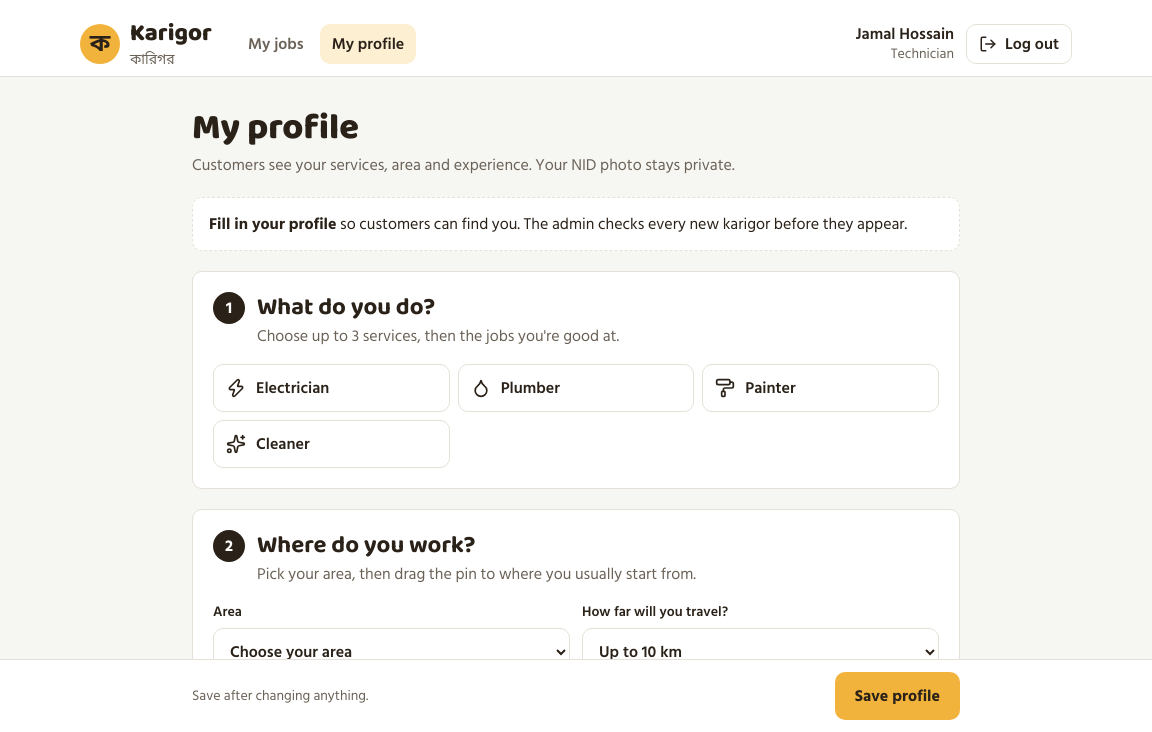
it: new technician › allows at most 3 services
Expected: the heading "What do you do?" is shown, top-left (257, 288), bottom-right (435, 328)
Click the button "Electrician": (331, 388) top-left (213, 364), bottom-right (450, 412)
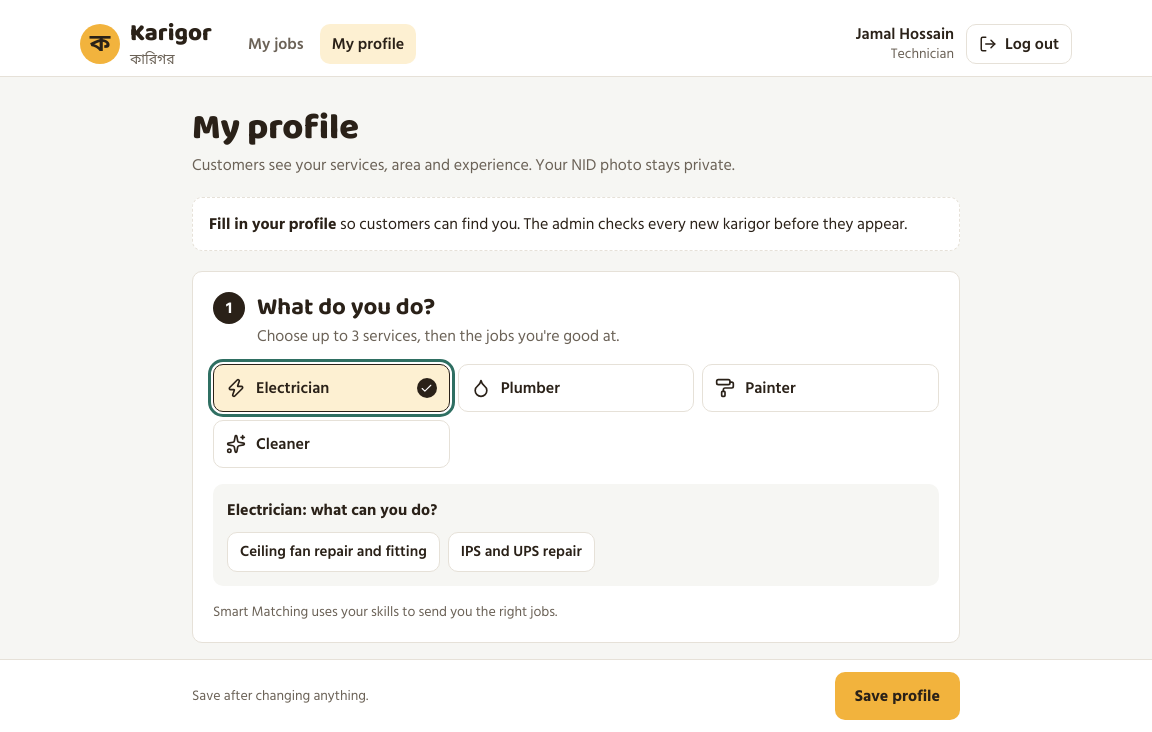
Click the button "Plumber": (576, 388) top-left (458, 364), bottom-right (694, 412)
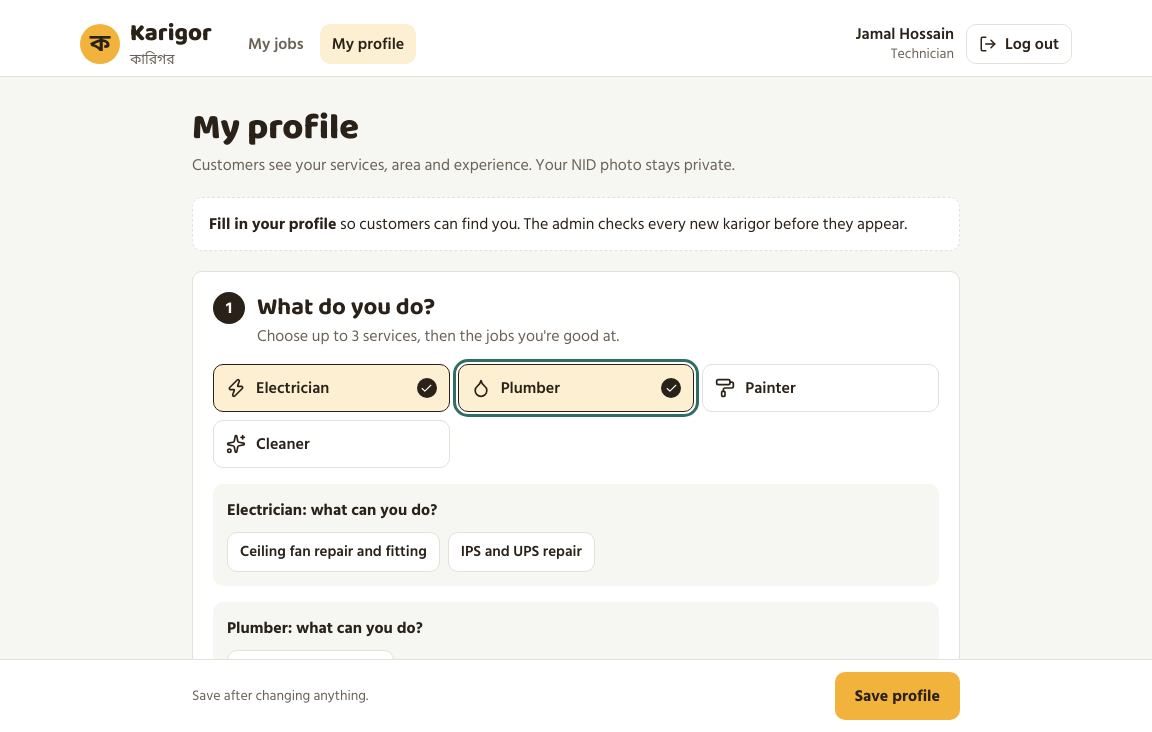
Click the button "Painter": (821, 388) top-left (702, 364), bottom-right (939, 412)
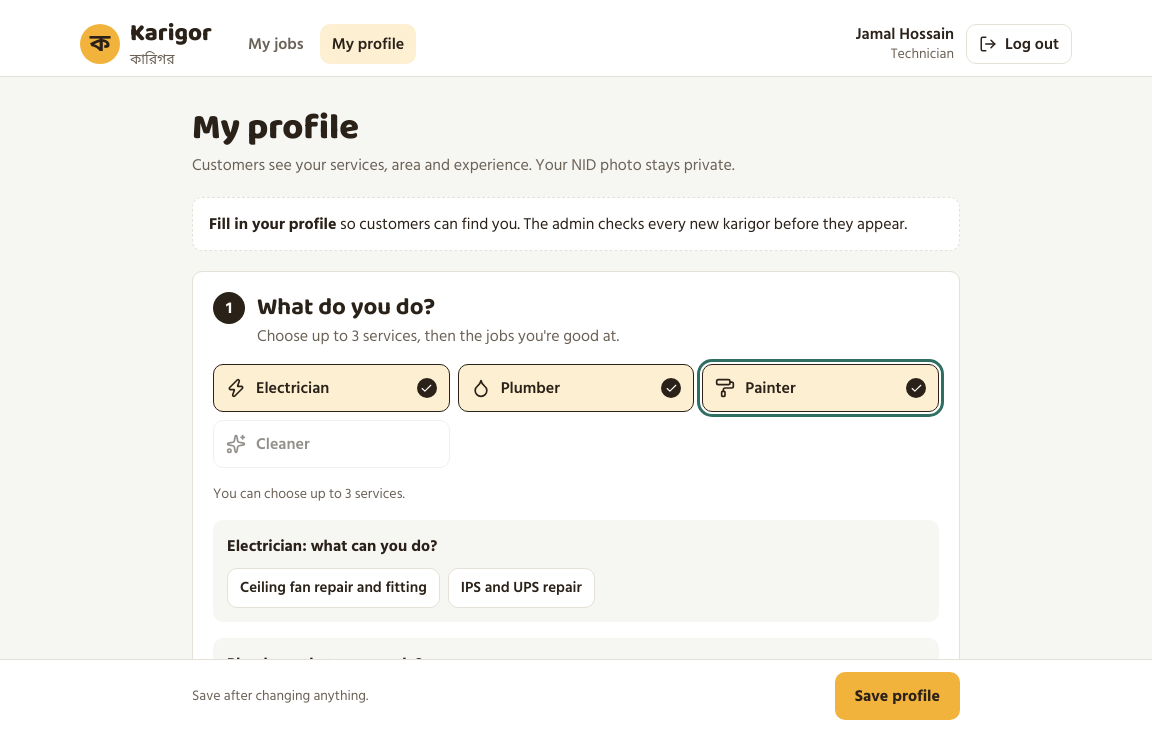
Result: the button "Cleaner" is disabled at top-left (213, 420), bottom-right (450, 468)
Result: the text "You can choose up to 3 services." is shown at top-left (213, 482), bottom-right (405, 505)
